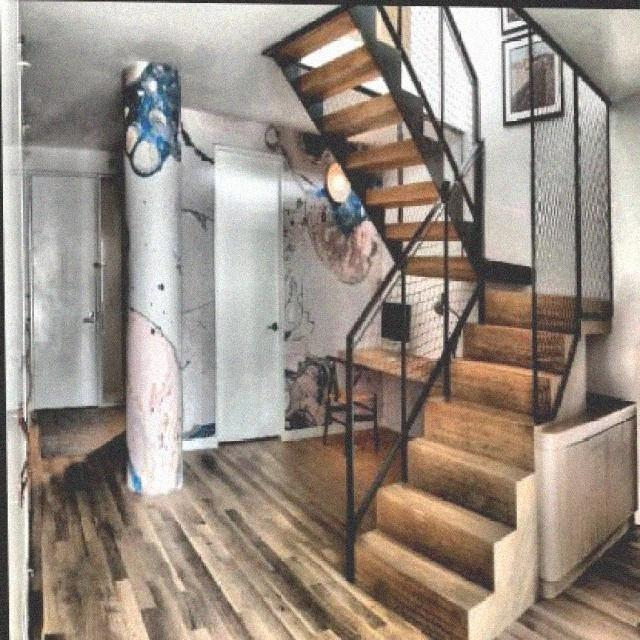stair: (375, 267, 557, 638)
